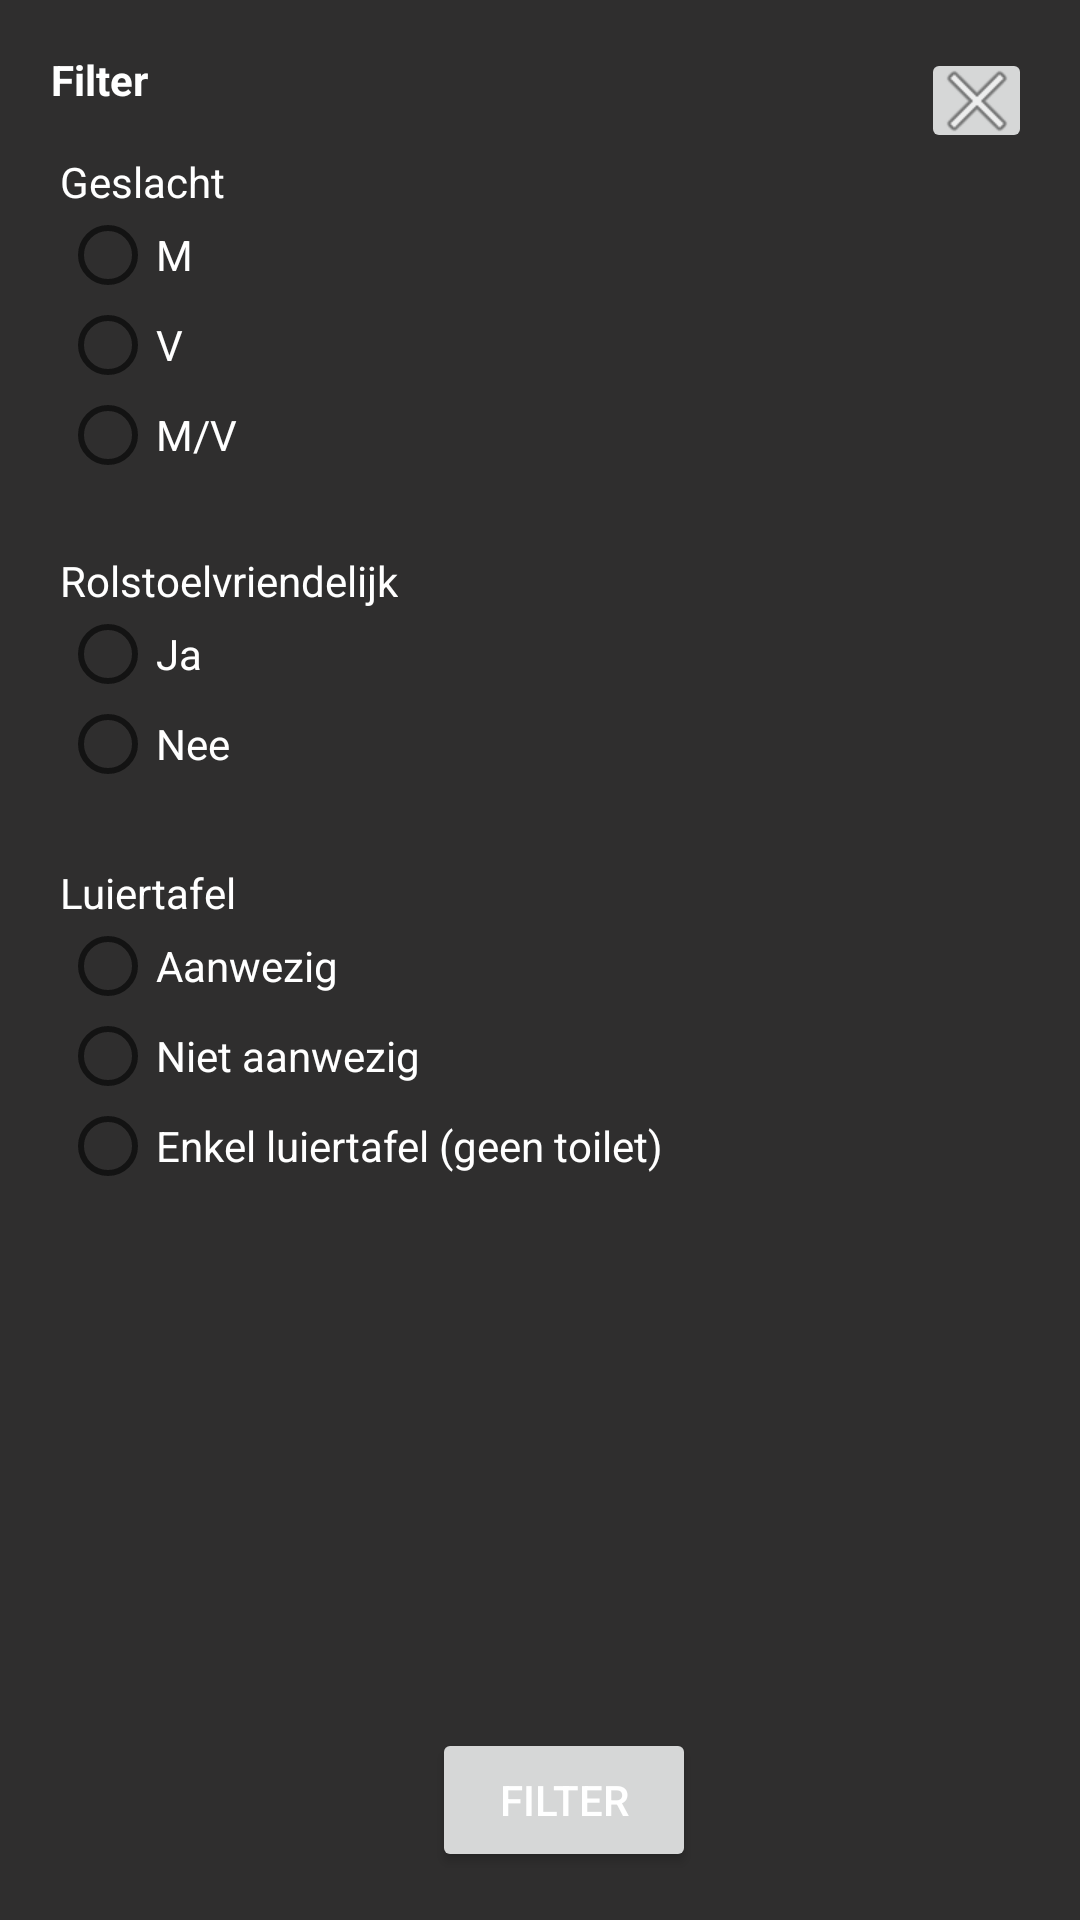

Icons on this 1080x1920 Android screen, each with its box as box(x1, y1, x2, y2):
close clear cancel: box(933, 66, 1020, 135)
